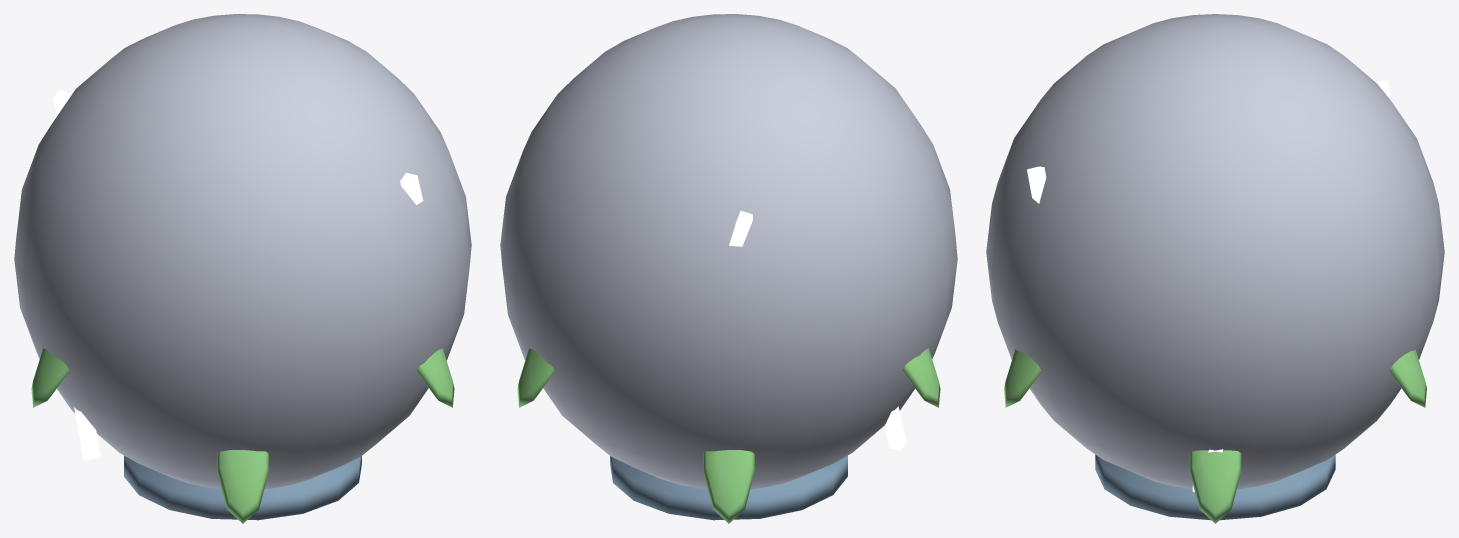
The model's file is egg_snow_08.glb.
3 renders of one model, left to right at view 1: azimuth 30°, elevation 25°; view 2: azimuth 150°, elevation 25°; view 3: azimuth 270°, elevation 25°, orthographic.
Parts seen in each view (by area): view 1: ball; view 2: ball; view 3: ball.
Boxes of the visible parts, x1,y1,x2,y2 form: ball: (14, 14, 471, 523); ball: (500, 14, 957, 523); ball: (986, 14, 1444, 523).
Bounding box in the file's own units: 0.8638 × 0.88 × 0.84.
